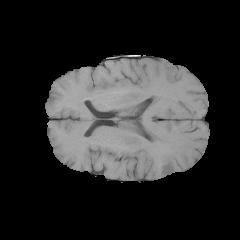glioma: (156, 154, 185, 177)
